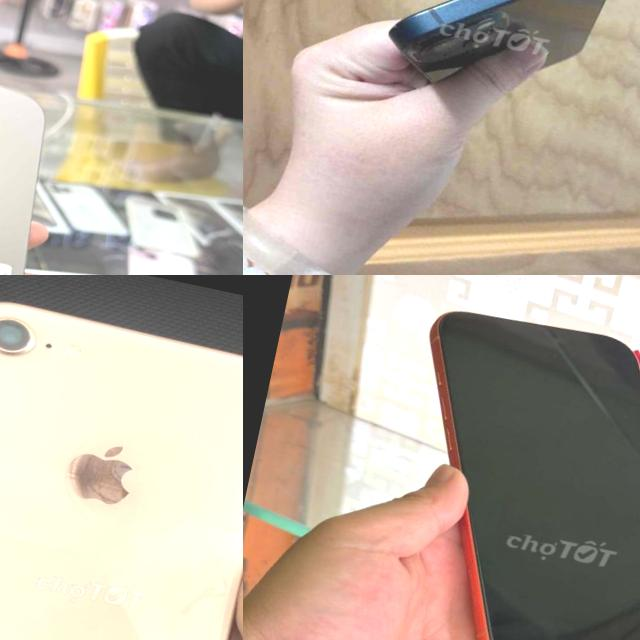gen_12_13: (375, 0, 627, 110)
gen_15: (0, 32, 86, 275)
gen_17: (355, 278, 640, 640)
gen_7_8: (0, 277, 243, 640)
